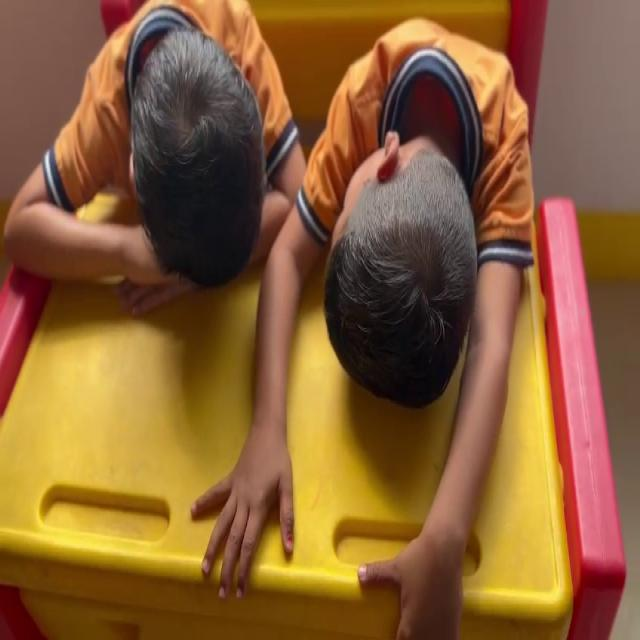child: (30, 0, 276, 541), (304, 31, 530, 548)
